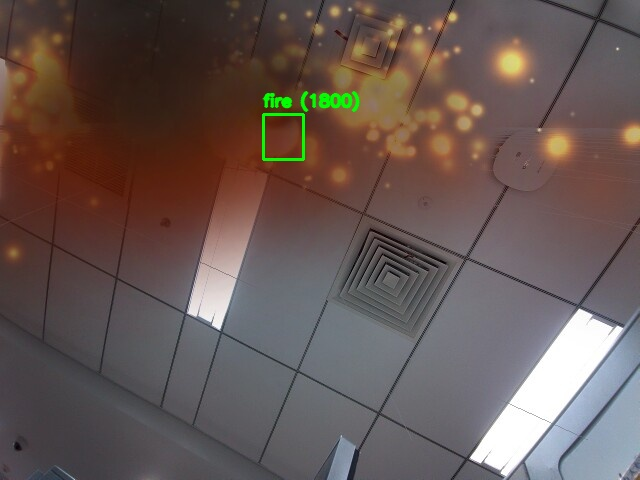fire: (263, 114, 303, 159)
